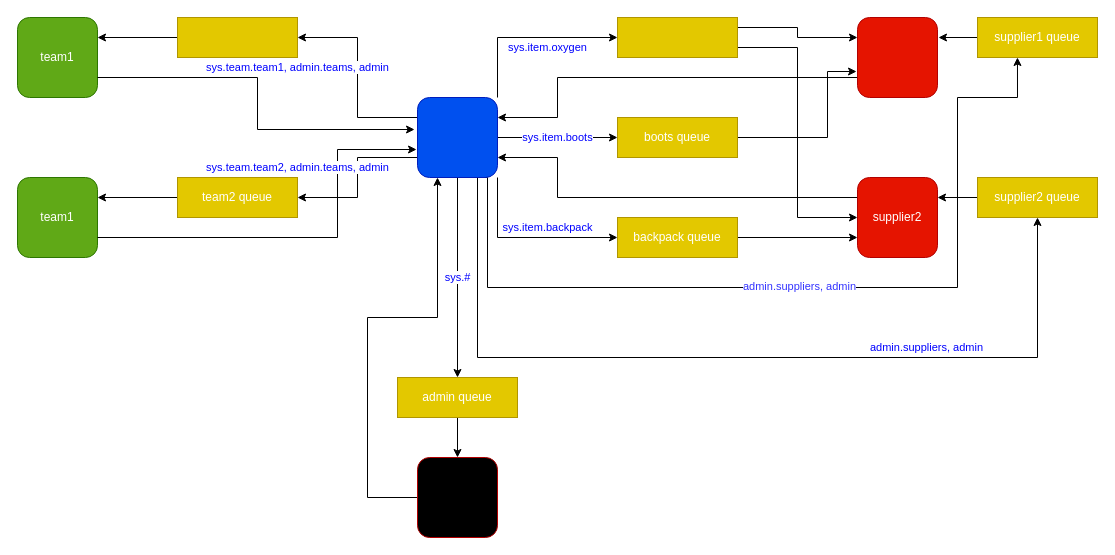
This 1115x555 diagram has some shape labels left out. The box of each missing label's shape, as (x1, y1, x2, y2) in pixels:
admin: (416, 456, 498, 538)
oxygen queue: (616, 16, 738, 58)
supplier1: (856, 16, 938, 98)
team1 queue: (176, 16, 298, 58)
topic exchange: (416, 96, 498, 178)
